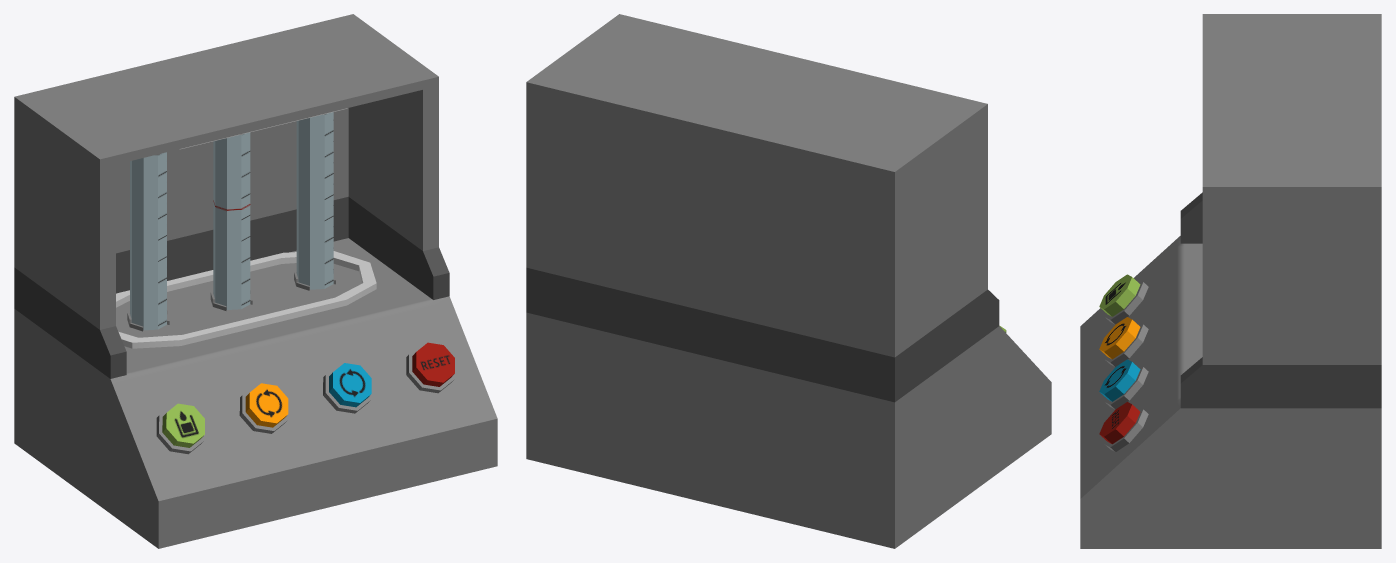
The model's file is cylinder_game.fbx.
3 renders of one model, left to right at view 1: azimuth 30°, elevation 25°; view 2: azimuth 150°, elevation 25°; view 3: azimuth 270°, elevation 25°, orthographic. The views are drawn at different scales.
Visible parts, largest first — view 1: machine_minigame, cylinder_glass_02, cylinder_glass_01_2, cylinder_glass_01_1, cylinderButton_reset, cylinderButton_2, cylinderButton_1, cylinderButton_3; view 2: machine_minigame; view 3: machine_minigame, cylinderButton_reset, cylinderButton_3, cylinderButton_2, cylinderButton_1.
Boxes of the visible parts, x1,y1,x2,y2 form: machine_minigame: [14, 14, 497, 548]; cylinder_glass_02: [213, 132, 250, 309]; cylinder_glass_01_2: [296, 112, 333, 289]; cylinder_glass_01_1: [130, 152, 166, 330]; cylinderButton_reset: [406, 342, 454, 393]; cylinderButton_2: [239, 383, 288, 433]; cylinderButton_1: [156, 403, 204, 454]; cylinderButton_3: [323, 363, 371, 413]; machine_minigame: [526, 14, 1051, 548]; machine_minigame: [1080, 14, 1381, 548]; cylinderButton_reset: [1099, 402, 1148, 452]; cylinderButton_3: [1099, 359, 1148, 409]; cylinderButton_2: [1099, 317, 1148, 366]; cylinderButton_1: [1099, 274, 1148, 324].
Size of the model in its own units: 4.07 by 3.98 by 3.
